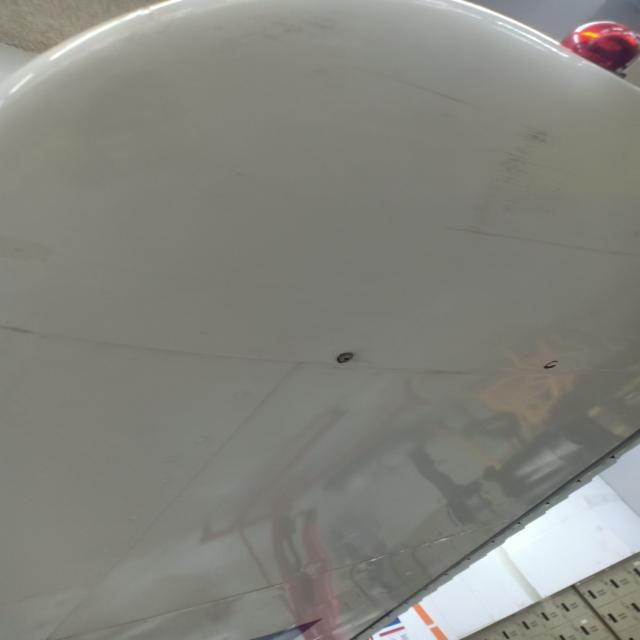Rupture: (293, 337, 367, 385), (512, 349, 580, 375)
